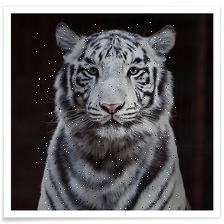tiger: (35, 22, 176, 211)
